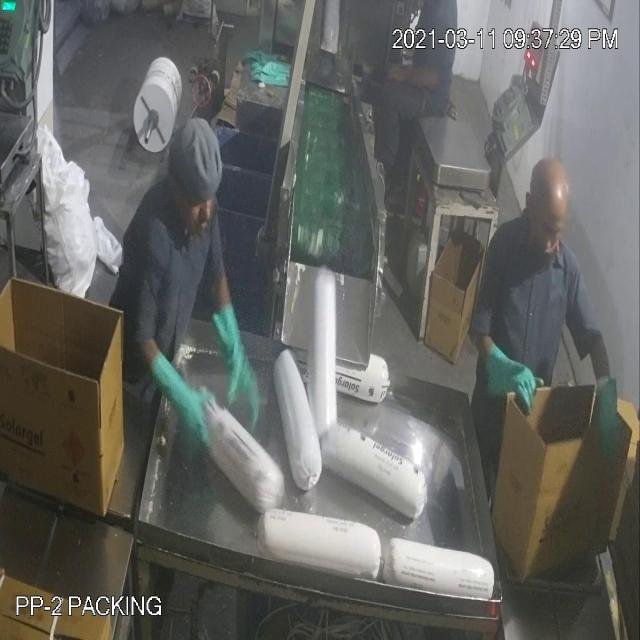gloves: (208, 304, 266, 436), (485, 334, 541, 420), (596, 364, 628, 476)
no-gloves: (382, 48, 438, 103)
